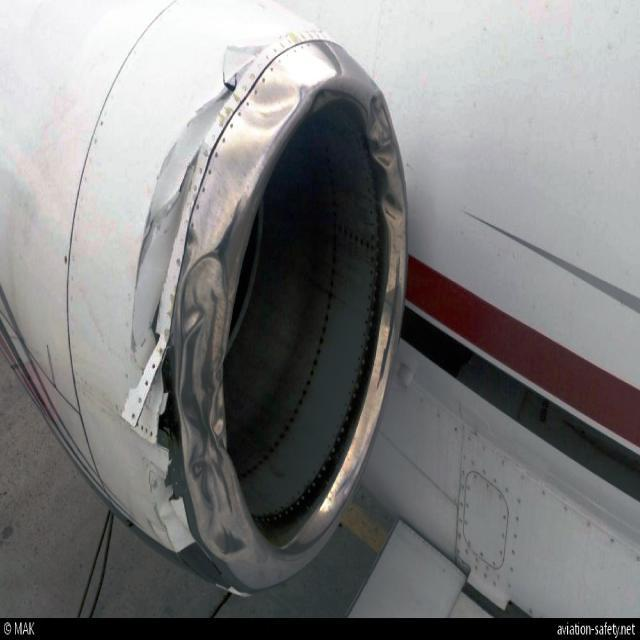dent: (180, 258, 249, 552), (187, 146, 265, 250), (241, 83, 303, 126), (368, 94, 396, 169), (382, 193, 407, 224)
